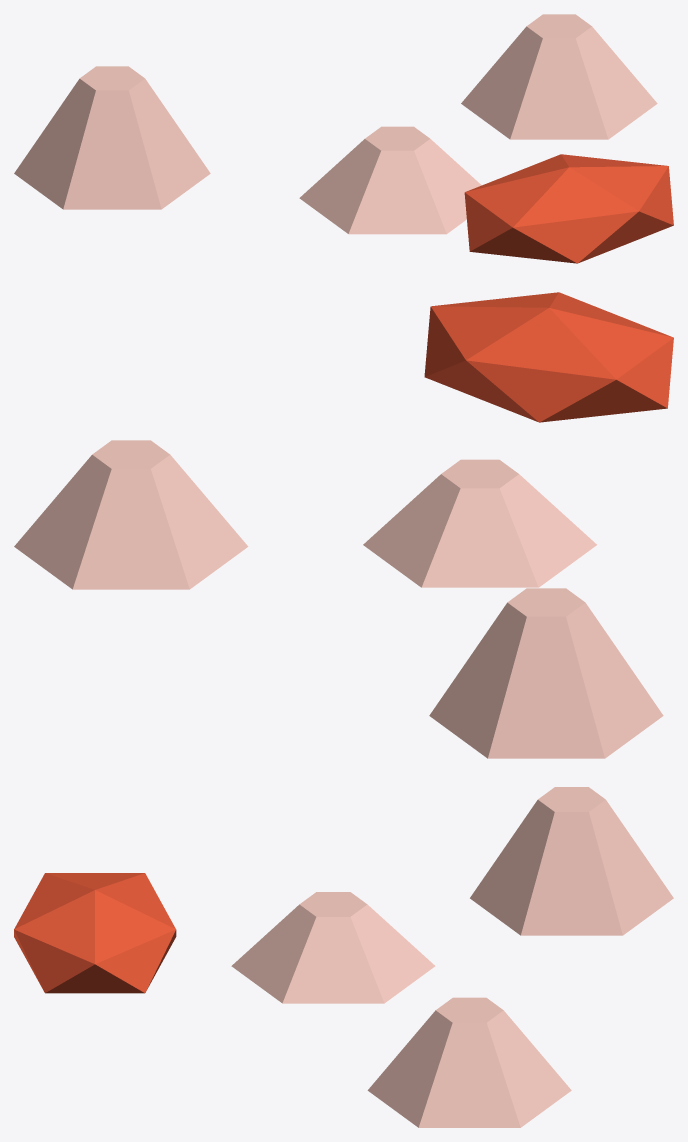
Rendered from shell_cluster.glb.
3 renders of one model, top to bottom at view 1: azimuth 30°, elevation 25°; view 2: azimuth 150°, elevation 25°; view 3: azimuth 270°, elevation 25°, orthographic. The views are drawn at different scales.
Visible parts, largest first — view 1: shell_cluster; view 2: shell_cluster; view 3: shell_cluster.
Boxes of the visible parts, bbox=[...] form: shell_cluster: bbox=[14, 14, 673, 263]; shell_cluster: bbox=[14, 292, 673, 758]; shell_cluster: bbox=[14, 787, 673, 1127].
Bounding box in the file's own units: 0.9598 × 0.2 × 0.9691.
